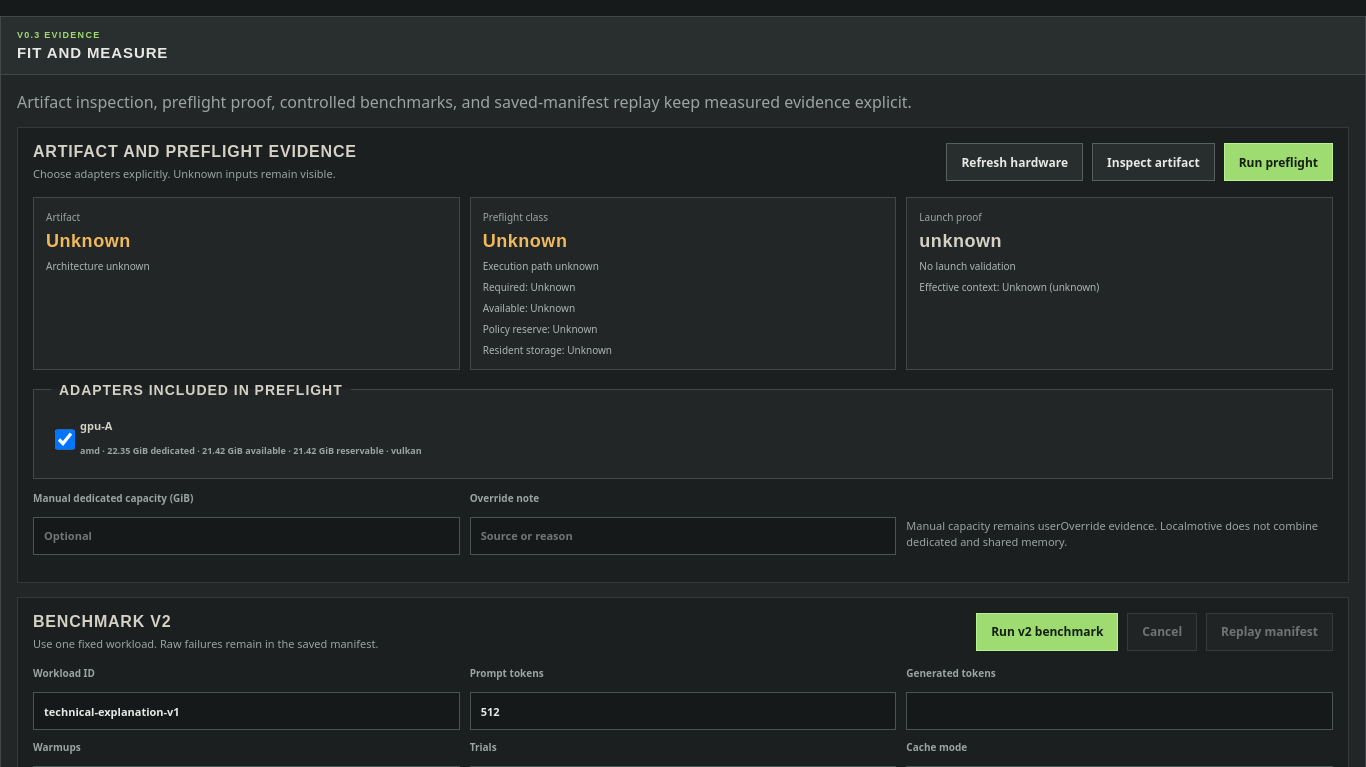
benchmark workload editing › keeps a cleared Benchmark generated tokens field blank
The image size is (1366, 767).
Expected: the button "Run v2 benchmark" is enabled, [976, 612, 1118, 650]
Clear the field labelled "Generated tokens" at (1120, 711), box [906, 692, 1333, 730]
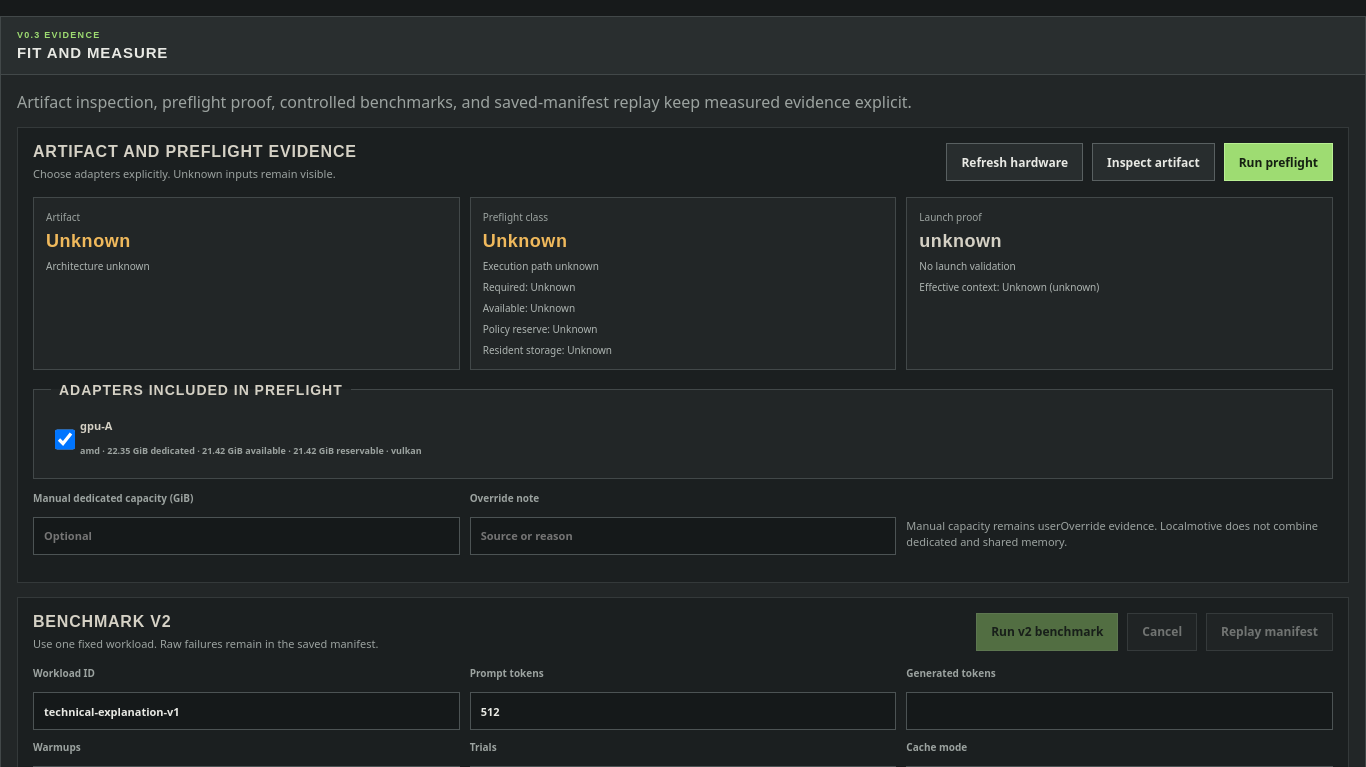
Expected: the button "Run v2 benchmark" is disabled, [976, 612, 1118, 650]
